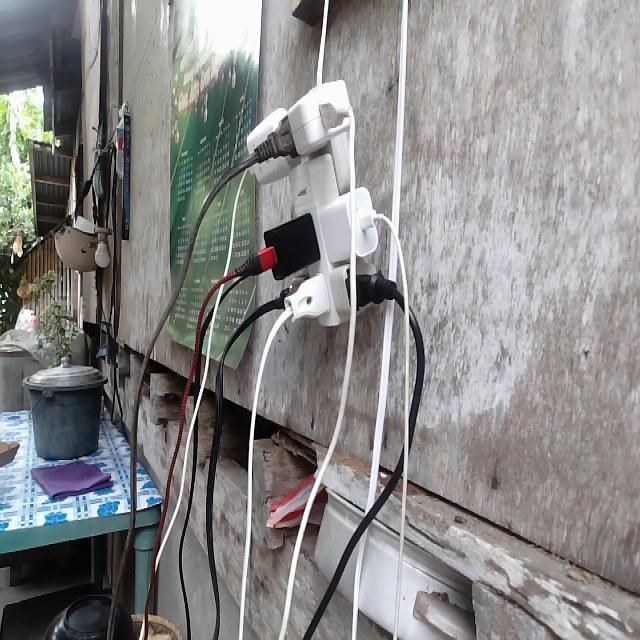-: (242, 77, 395, 328)
